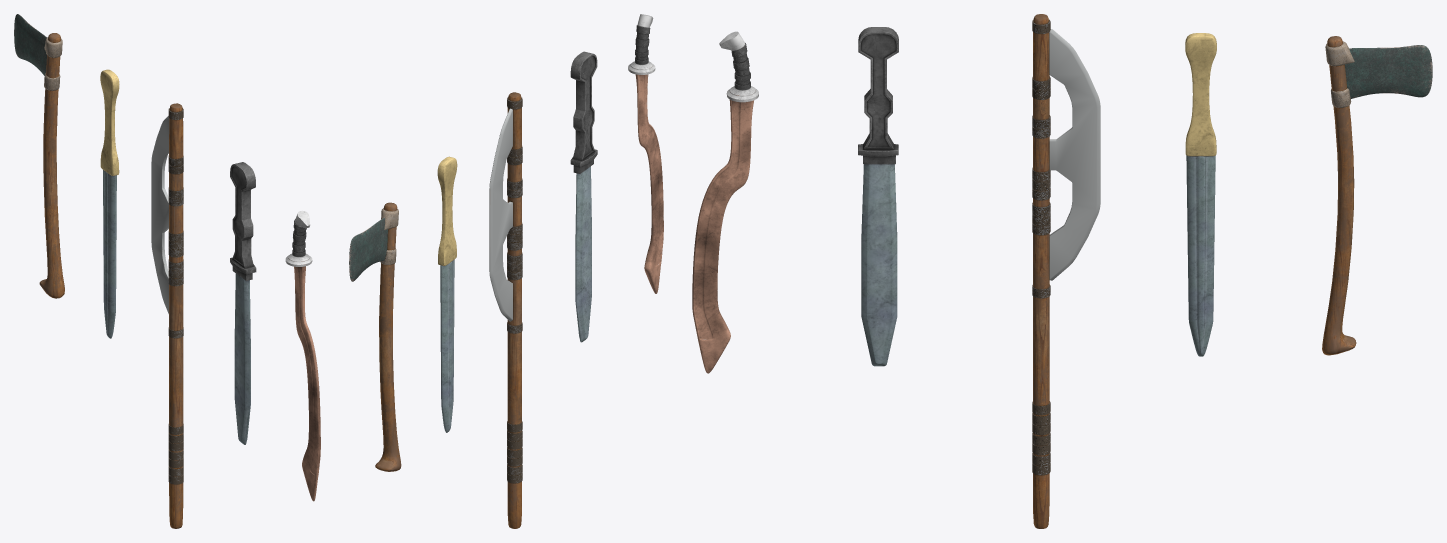
Rendered from EgyptianWeapons.fbx.
3 views of the same model, side by side, from view 1: azimuth 30°, elevation 25°; view 2: azimuth 150°, elevation 25°; view 3: azimuth 270°, elevation 25° (orthographic). The views are drawn at different scales.
Visible parts, largest first — view 1: Axe, OneHandedAxe.001, Egyptian Sabre, Kopesh, Sword; view 2: Axe, OneHandedAxe.001, Egyptian Sabre, Kopesh, Sword; view 3: Axe, Egyptian Sabre, OneHandedAxe.001, Kopesh, Sword.
Boxes of the visible parts, <box> form: Axe: <box>151,103,183,528</box>; OneHandedAxe.001: <box>14,14,64,298</box>; Egyptian Sabre: <box>230,162,256,444</box>; Kopesh: <box>285,210,320,501</box>; Sword: <box>100,69,119,338</box>; Axe: <box>489,92,522,528</box>; OneHandedAxe.001: <box>349,202,401,471</box>; Egyptian Sabre: <box>570,51,597,342</box>; Kopesh: <box>628,14,663,293</box>; Sword: <box>437,156,457,432</box>; Axe: <box>1032,14,1100,528</box>; Egyptian Sabre: <box>858,27,898,366</box>; OneHandedAxe.001: <box>1322,36,1432,355</box>; Kopesh: <box>692,31,758,373</box>; Sword: <box>1185,33,1216,356</box>.
Size of the model in its own units: 33.52 by 587 by 770.
